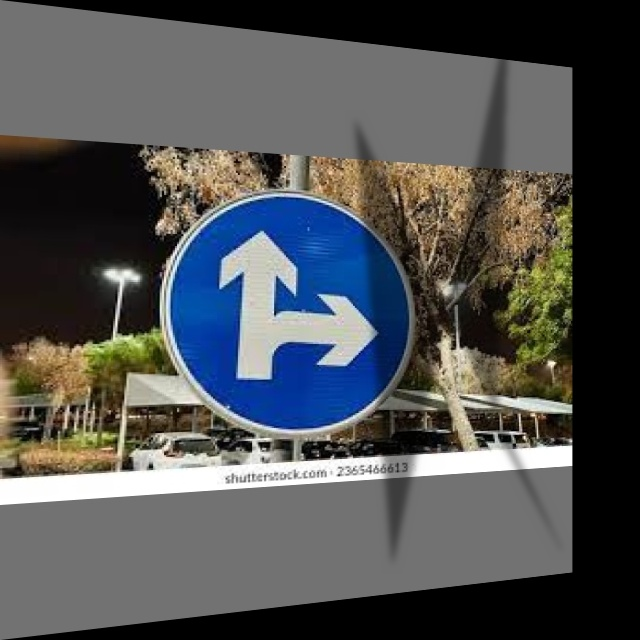Compulsory_Ahead_or_Turn_Right: (163, 184, 415, 440)
